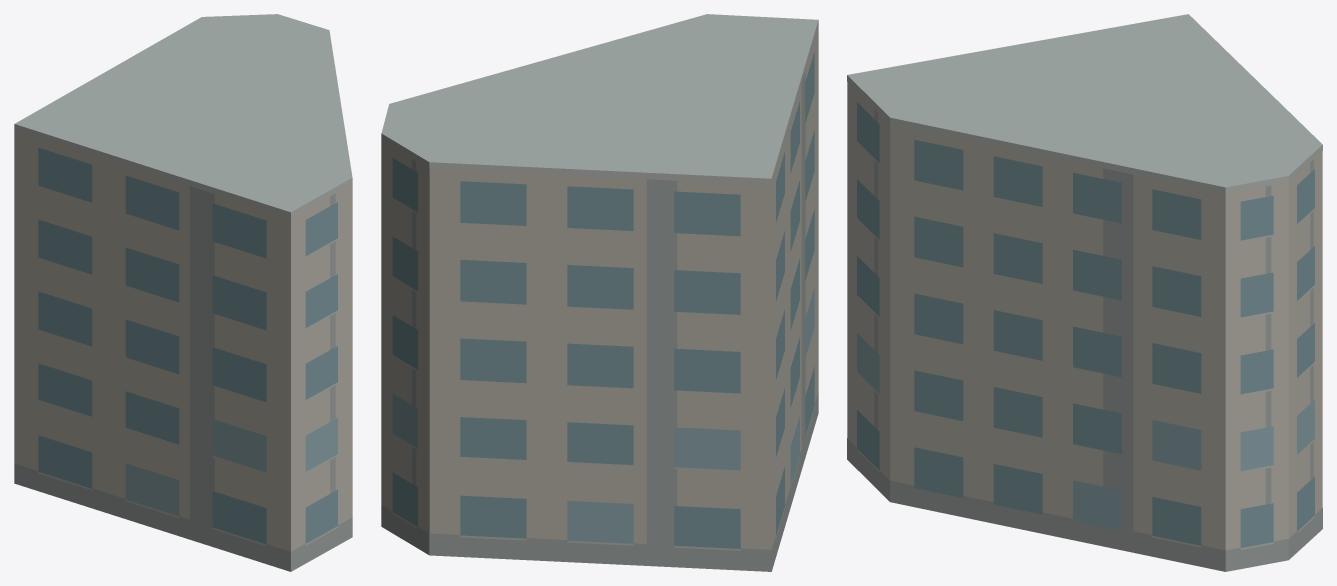
The model's file is survey-upis-32944925.glb.
3 views of the same model, side by side, from view 1: azimuth 30°, elevation 25°; view 2: azimuth 150°, elevation 25°; view 3: azimuth 270°, elevation 25° (orthographic). The views are drawn at different scales.
Visible parts, largest first — view 1: survey-upis-32944925.tmp; view 2: survey-upis-32944925.tmp; view 3: survey-upis-32944925.tmp.
Boxes of the visible parts, x1=… form: survey-upis-32944925.tmp: x1=14, y1=14, x2=352, y2=571; survey-upis-32944925.tmp: x1=381, y1=14, x2=818, y2=571; survey-upis-32944925.tmp: x1=847, y1=14, x2=1322, y2=571.
Size of the model in its own units: 14.04 by 14.5 by 16.27.
